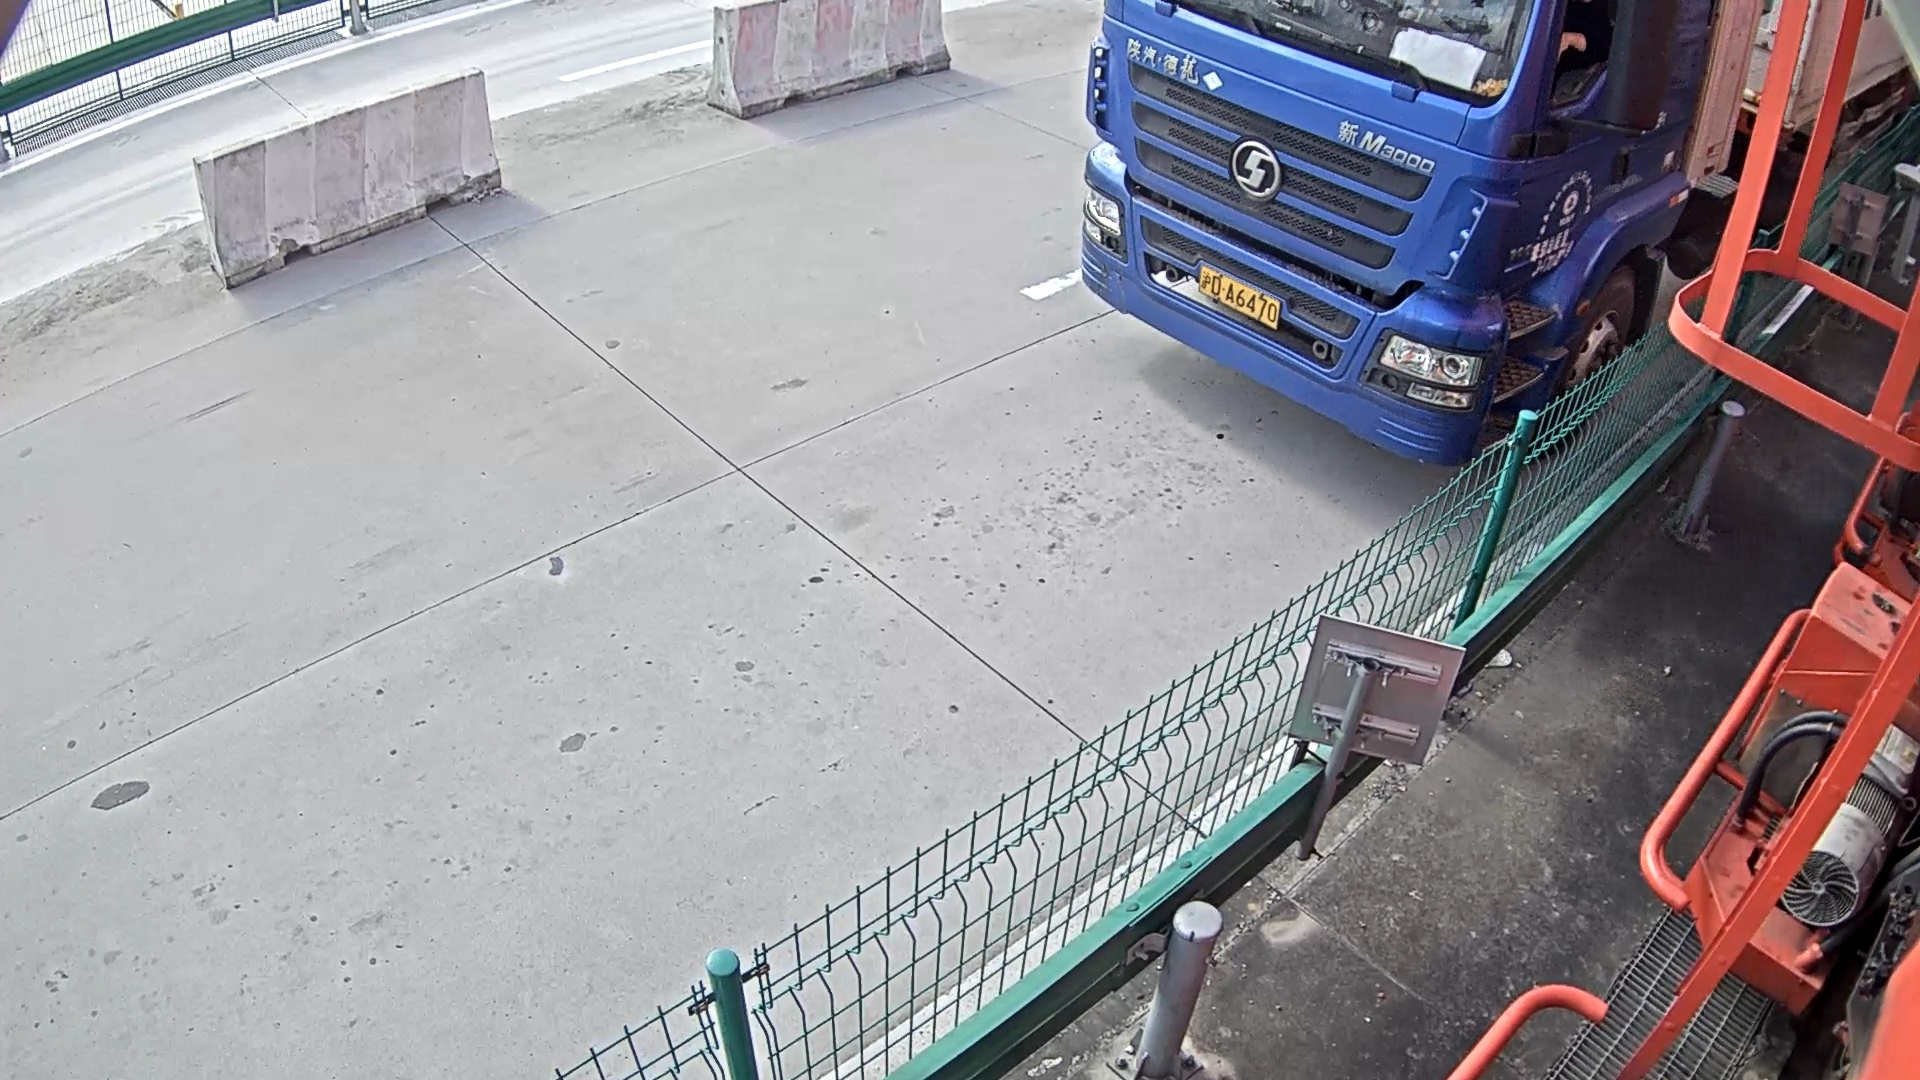head: (1076, 1, 1715, 428)
plate: (1193, 264, 1286, 331)
